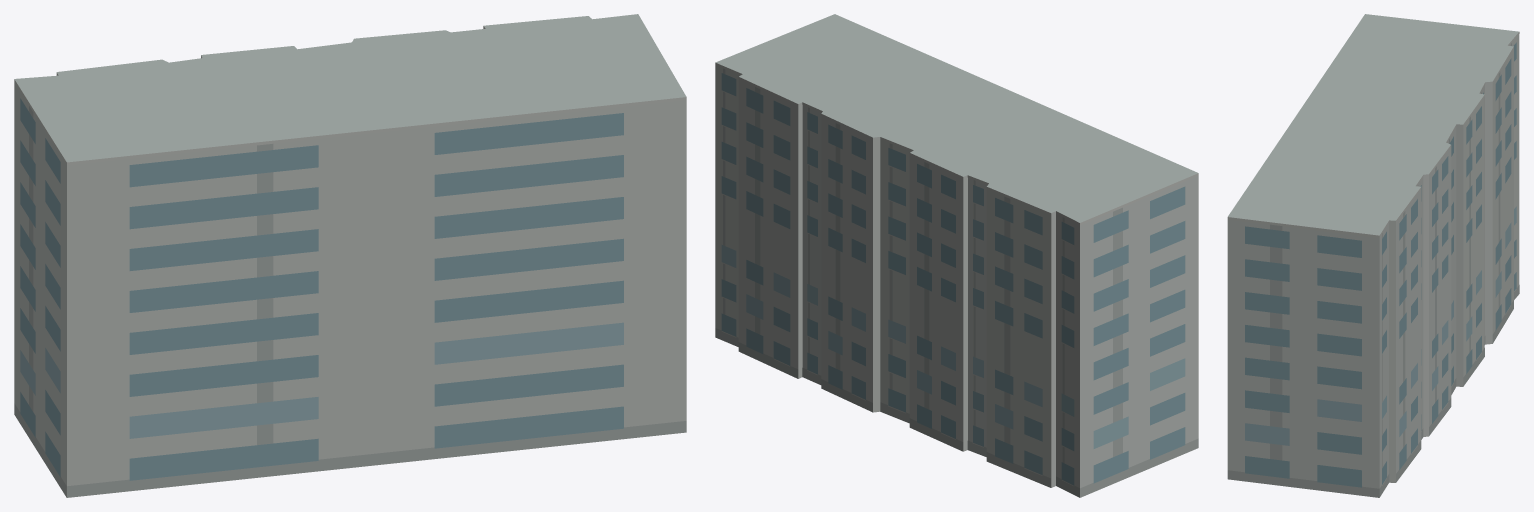
The model's file is survey-upis-32947737.glb.
3 views of the same model, side by side, from view 1: azimuth 30°, elevation 25°; view 2: azimuth 150°, elevation 25°; view 3: azimuth 270°, elevation 25° (orthographic). The views are drawn at different scales.
Parts seen in each view (by area): view 1: survey-upis-32947737.tmp; view 2: survey-upis-32947737.tmp; view 3: survey-upis-32947737.tmp.
Part boxes in pixels (left/top/right/bottom): survey-upis-32947737.tmp: left=14, top=14, right=686, bottom=497; survey-upis-32947737.tmp: left=715, top=14, right=1198, bottom=497; survey-upis-32947737.tmp: left=1227, top=14, right=1519, bottom=497.
Bounding box in the file's own units: 48.02 × 26.5 × 26.73.
